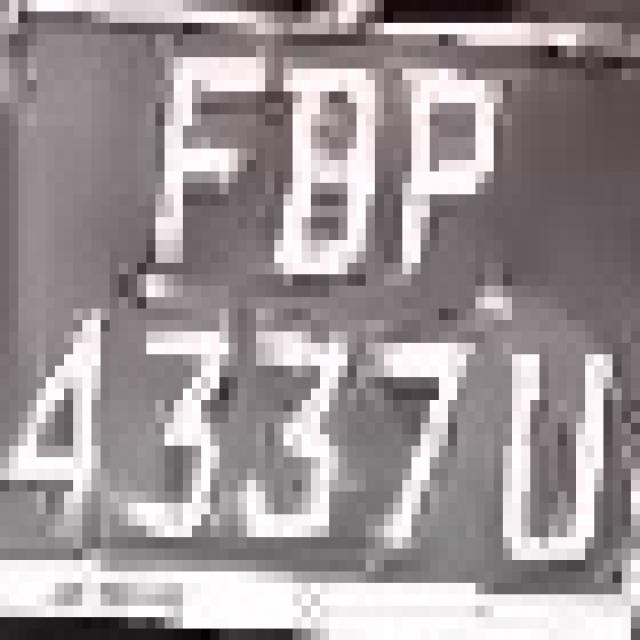3: (247, 297, 356, 572), (119, 274, 219, 537)
4: (9, 286, 119, 537)
7: (348, 286, 457, 571)
B: (256, 46, 411, 320)
F: (128, 34, 293, 320)
P: (384, 69, 503, 297)
U: (484, 286, 631, 594)
